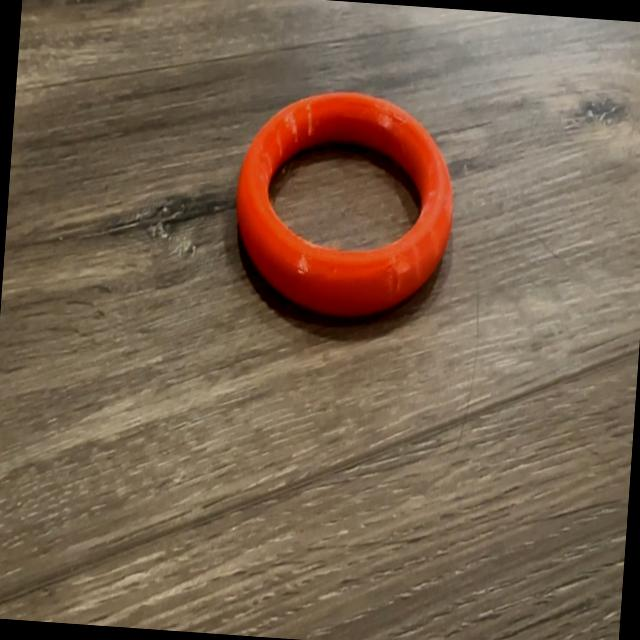note: (228, 81, 462, 326)
